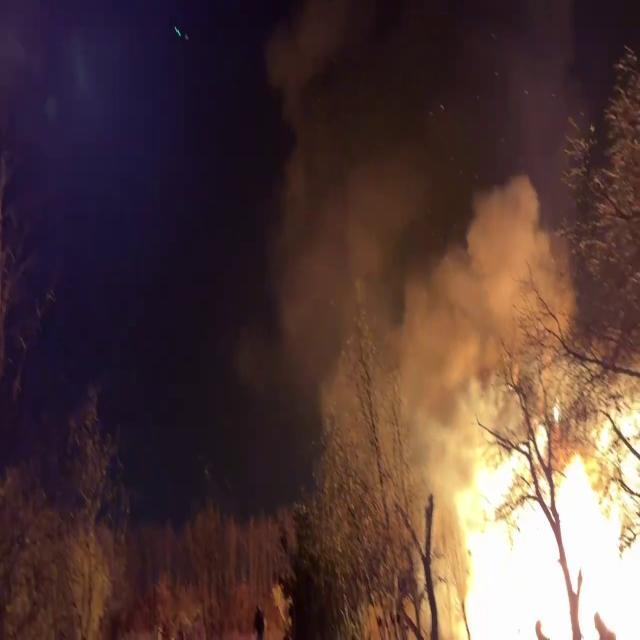Fire: (426, 380, 640, 640)
Smoke: (233, 1, 601, 473)
